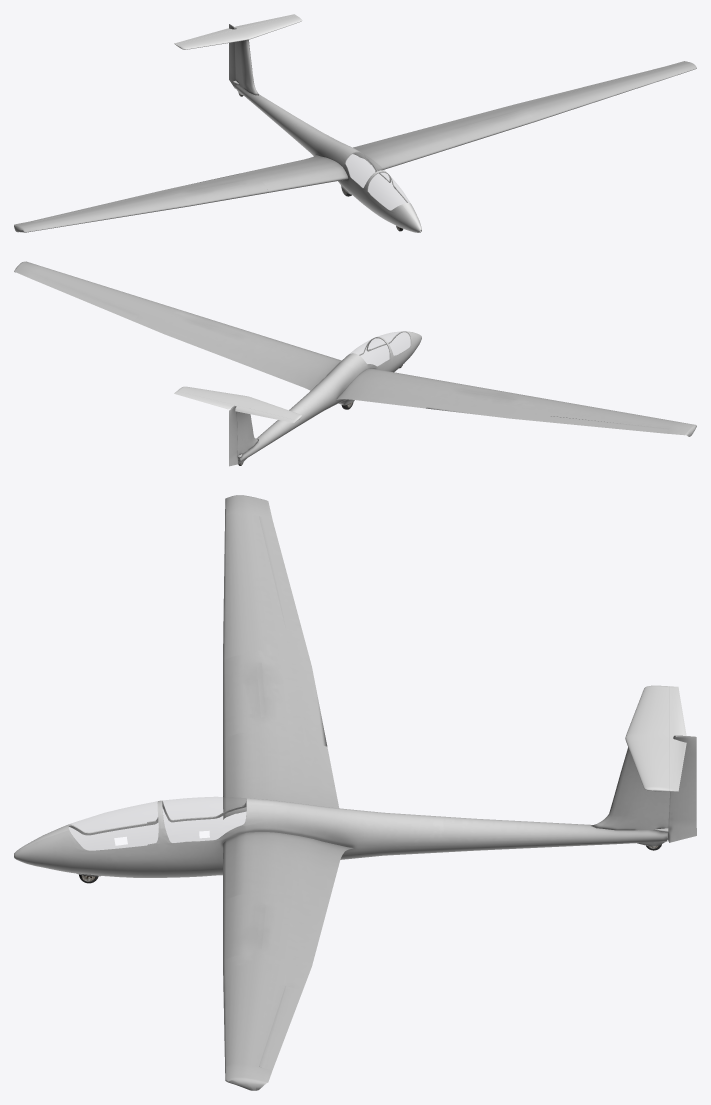
The picture shows the model from 3 angles, top to bottom: view 1: azimuth 30°, elevation 25°; view 2: azimuth 150°, elevation 25°; view 3: azimuth 270°, elevation 25°; orthographic projection. The views are drawn at different scales.
Parts seen in each view (by area): view 1: fuselage, wing.L3, wing.L1, wing.R1, wing.R3, wing.L2, wing.R2, vstabilizer, windowF, hstabilizer, windowR, elevator; view 2: fuselage, wing.L1, wing.R1, wing.L3, wing.L2, wing.R3, wing.R2, vstabilizer, aileronL, aileronR, windowR, hstabilizer (+3 smaller); view 3: fuselage, wing.R3, wing.R1, wing.R2, wing.L1, wing.L3, wing.L2, vstabilizer, windowR, hstabilizer, windowF, rudder (+4 smaller).
Part boxes in pixels (x1,y1,x2,y2): fuselage: (233,83,421,232); wing.L3: (511,67,678,121); wing.L1: (353,128,455,171); wing.R1: (240,154,348,192); wing.R3: (35,190,189,229); wing.L2: (427,105,534,147); wing.R2: (165,173,268,206); vstabilizer: (176,15,302,49); windowF: (368,172,409,210); hstabilizer: (235,40,258,95); windowR: (345,152,384,187); elevator: (174,14,296,44); fuselage: (238,331,421,462); wing.L1: (240,337,341,390); wing.R1: (336,368,451,408); wing.L3: (35,267,187,333); wing.L2: (164,312,266,362); wing.R3: (510,396,677,428); wing.R2: (426,382,532,418); vstabilizer: (177,386,301,420); aileronL: (31,274,137,321); aileronR: (546,416,668,433); windowR: (350,337,389,365); hstabilizer: (236,411,258,461); fuselage: (14,798,667,877); wing.R3: (223,513,311,666); wing.R1: (223,732,338,819); wing.R2: (223,654,327,746); wing.L1: (223,832,353,908); wing.L3: (223,954,311,1066); wing.L2: (223,894,327,966); vstabilizer: (625,685,669,791); windowR: (162,797,246,842); hstabilizer: (591,747,669,837); windowF: (68,801,158,850); rudder: (667,735,696,842).
Bounding box in the file's own units: 16.91 × 2.06 × 8.33.
Materials: 4 (2 with a texture image).
